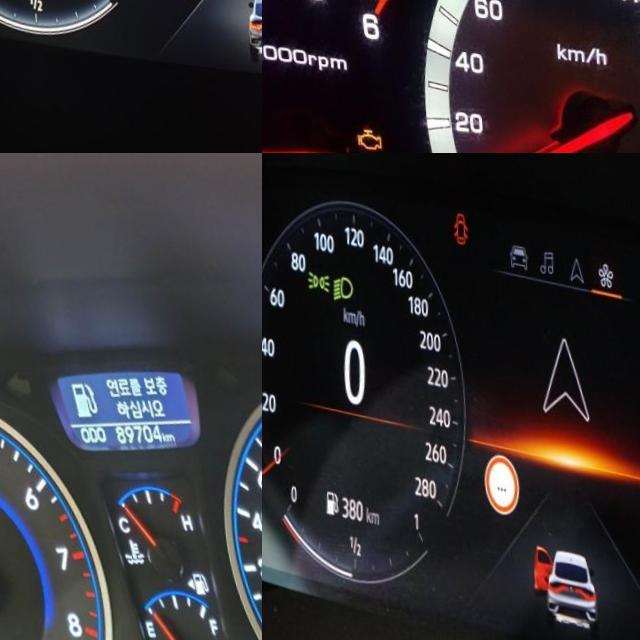Doors: (448, 201, 466, 238)
Low beam: (326, 268, 350, 299)
SideLamp: (302, 264, 326, 290)
